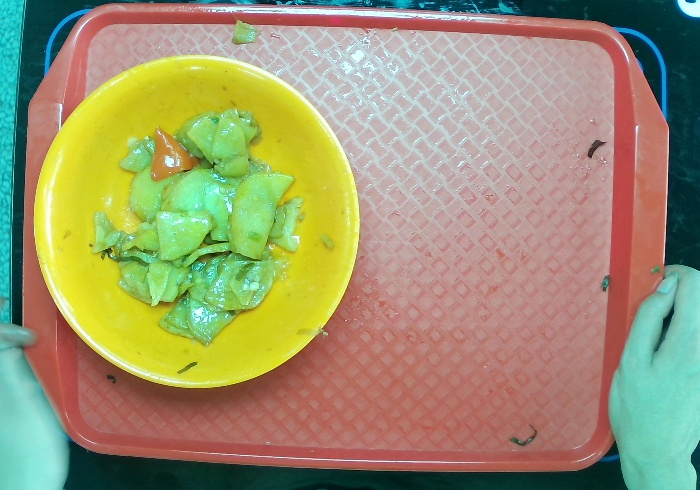YKMZ-Ju_Se_Tang_Wan: (26, 51, 366, 399)
